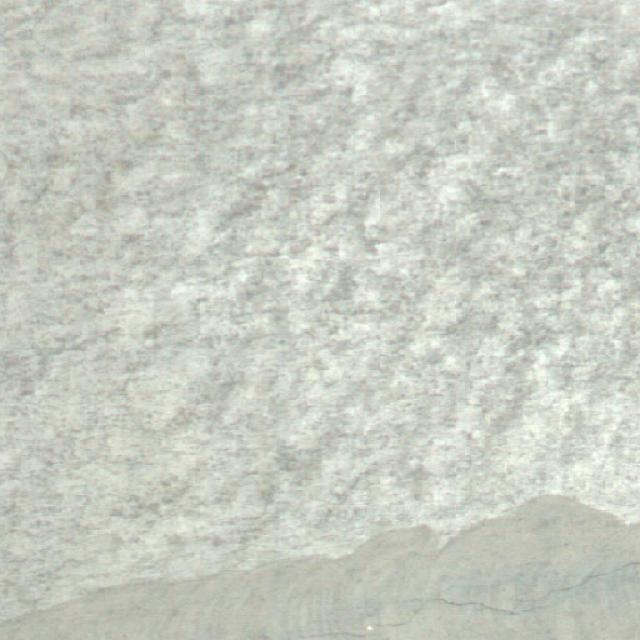Transverse: (349, 565, 640, 639)
